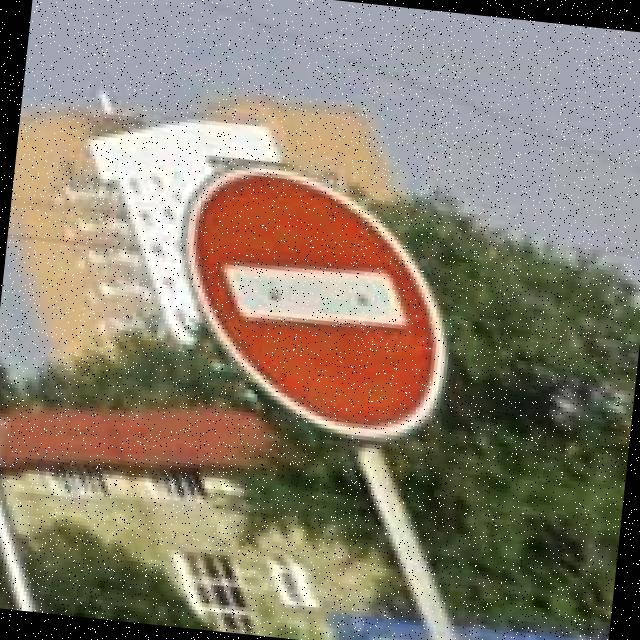Zakaz wjazdu: (165, 157, 469, 448)
